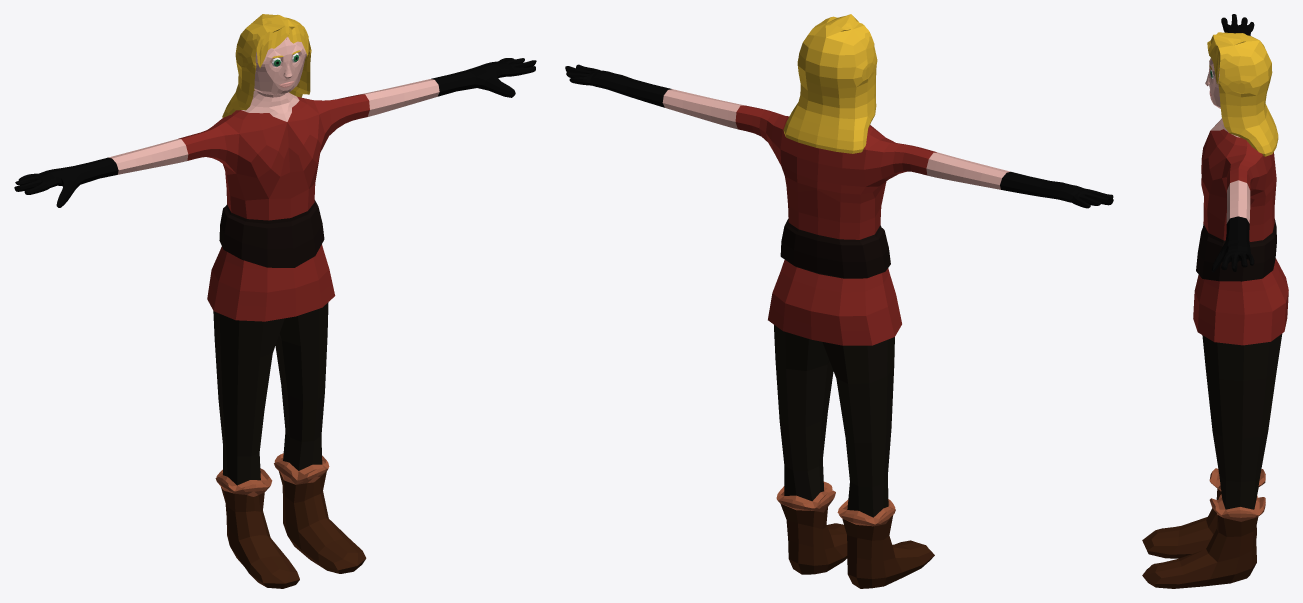
File: character.fbx
The picture shows the model from 3 angles, left to right: view 1: azimuth 30°, elevation 25°; view 2: azimuth 150°, elevation 25°; view 3: azimuth 270°, elevation 25°; orthographic projection. The views are drawn at different scales.
Visible parts, largest first — view 1: CharPerso; view 2: CharPerso; view 3: CharPerso.
Boxes of the visible parts, x1=… form: CharPerso: x1=14, y1=14, x2=536, y2=588; CharPerso: x1=565, y1=14, x2=1113, y2=588; CharPerso: x1=1142, y1=14, x2=1288, y2=588.
Size of the model in its own units: 136 by 133 by 33.09.
